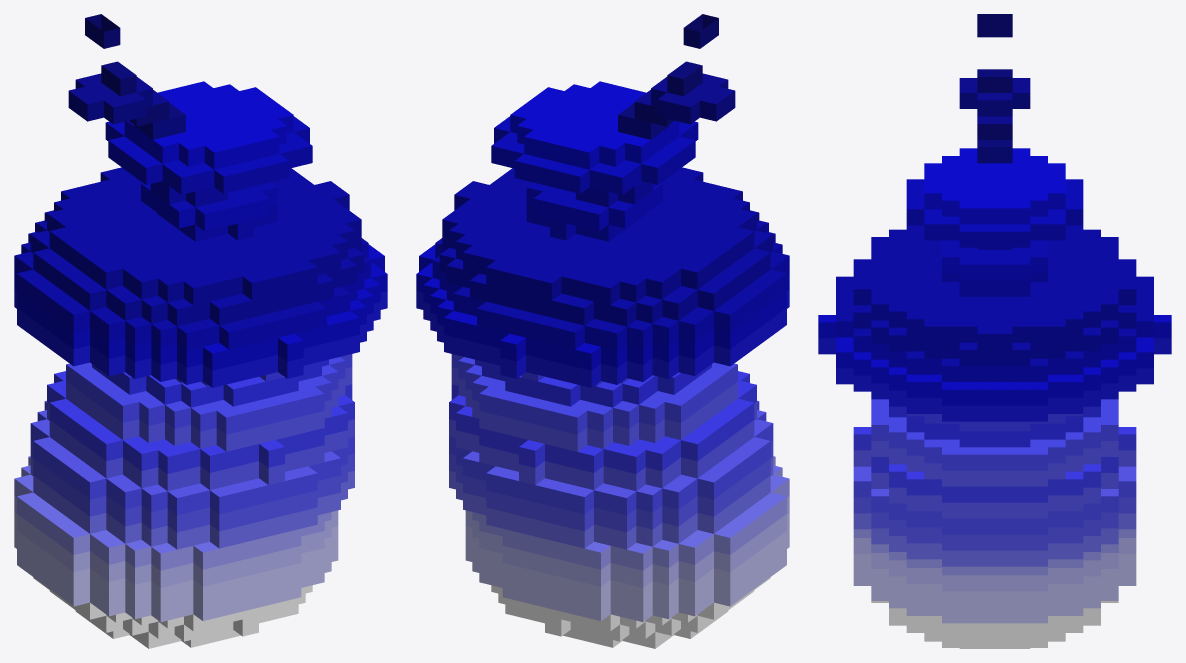
File: SMBTA0_flame.obj
3 renders of one model, left to right at view 1: azimuth 30°, elevation 25°; view 2: azimuth 150°, elevation 25°; view 3: azimuth 270°, elevation 25°, orthographic. The views are drawn at different scales.
Parts seen in each view (by area): view 1: TorchFlame; view 2: TorchFlame; view 3: TorchFlame.
Boxes of the visible parts, x1,y1,x2,y2 form: TorchFlame: (14,14,387,648); TorchFlame: (416,14,789,648); TorchFlame: (818,14,1171,648).
Bounding box in the file's own units: 0.5 × 0.9211 × 0.5263.
Materials: 1 (1 with a texture image).
